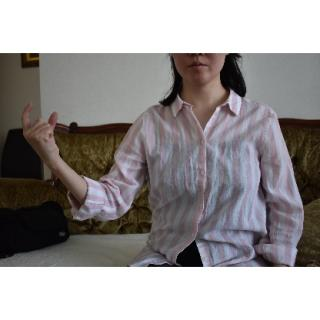DELL: (18, 100, 63, 161)
